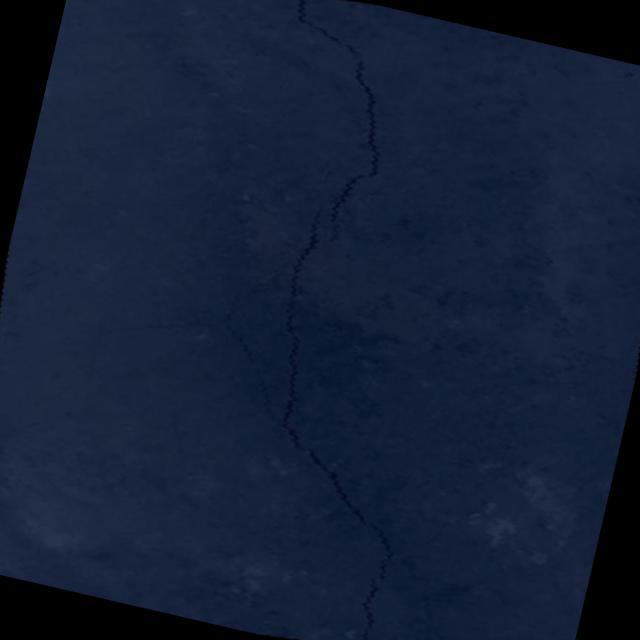crack: (34, 150, 476, 640), (238, 0, 419, 255), (407, 575, 464, 640)
